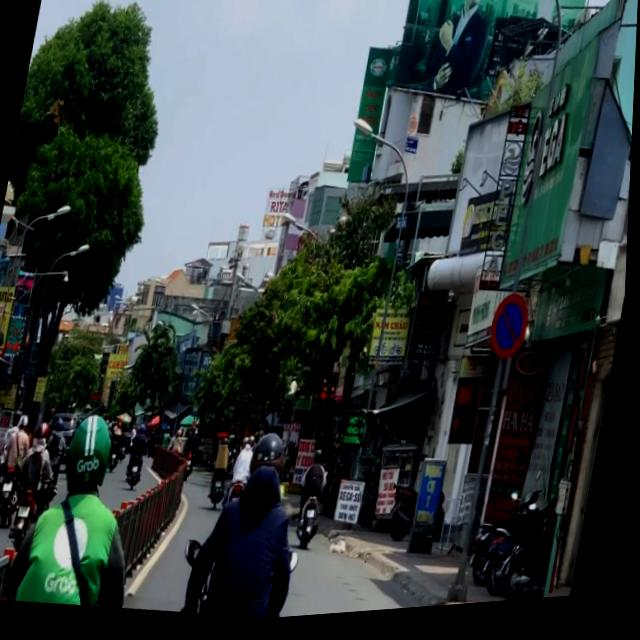Cam do xe: (489, 297, 538, 370)
